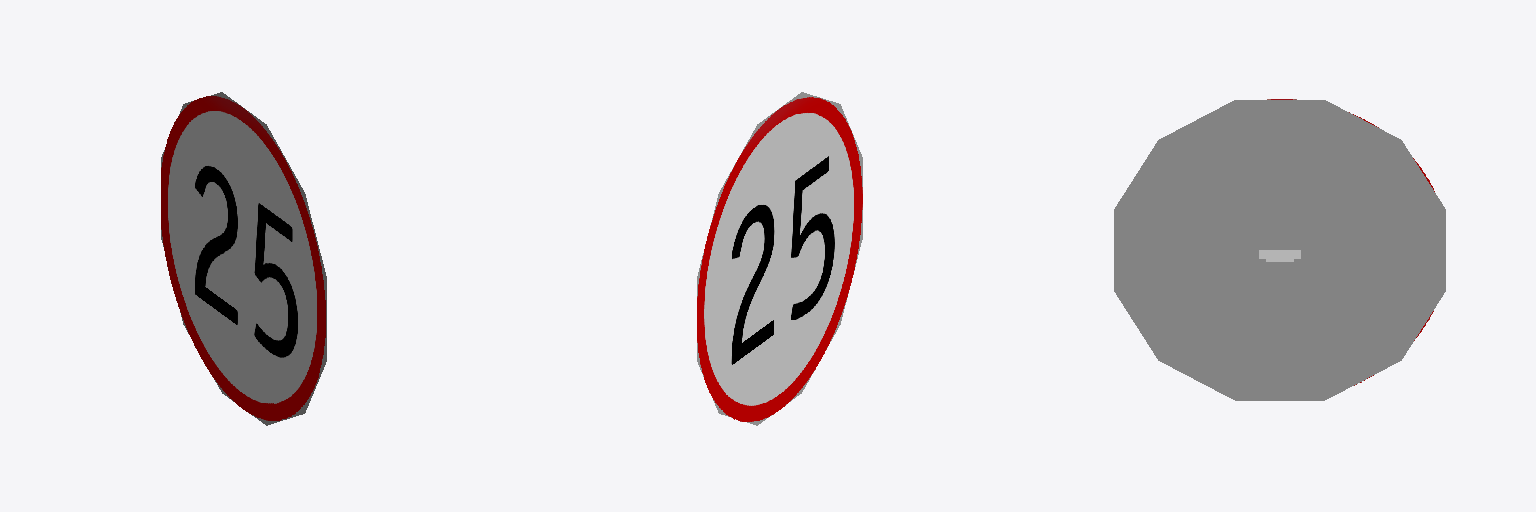
The picture shows the model from 3 angles: view 1: azimuth 30°, elevation 25°; view 2: azimuth 150°, elevation 25°; view 3: azimuth 270°, elevation 25°; orthographic projection.
Visible parts, largest first — view 1: cube, circle; view 2: cube, circle; view 3: circle, cube.
Part boxes in pixels (x1,y1,x2,y2): cube: (161, 96, 325, 420); circle: (161, 92, 326, 425); cube: (697, 97, 862, 421); circle: (697, 92, 862, 425); circle: (1114, 100, 1445, 400); cube: (1259, 99, 1434, 385).
Bounding box in the file's own units: 0.0641 × 0.75 × 0.75.
Materials: 2 (1 with a texture image).